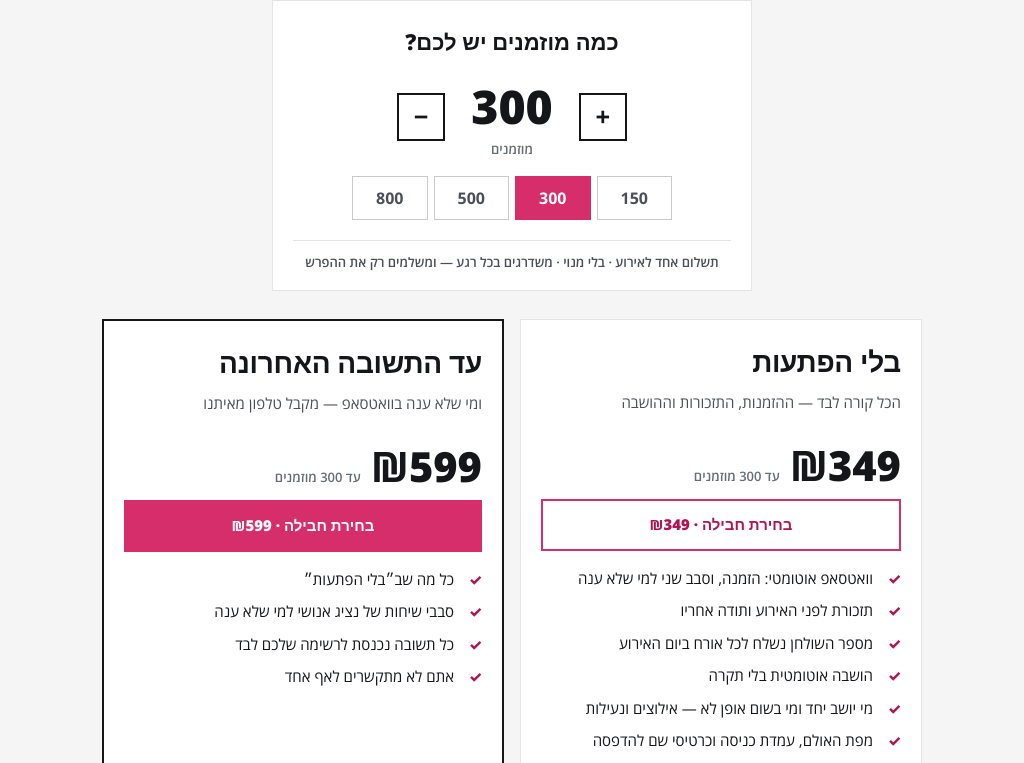
it: PackagePicker › 320 typed is the 350 step — the same price the event card shows
The width and height of the screenshot is (1024, 763).
Replace the text in the number field with "320" at (512, 107), box x1=463 y1=74 x2=561 y2=140
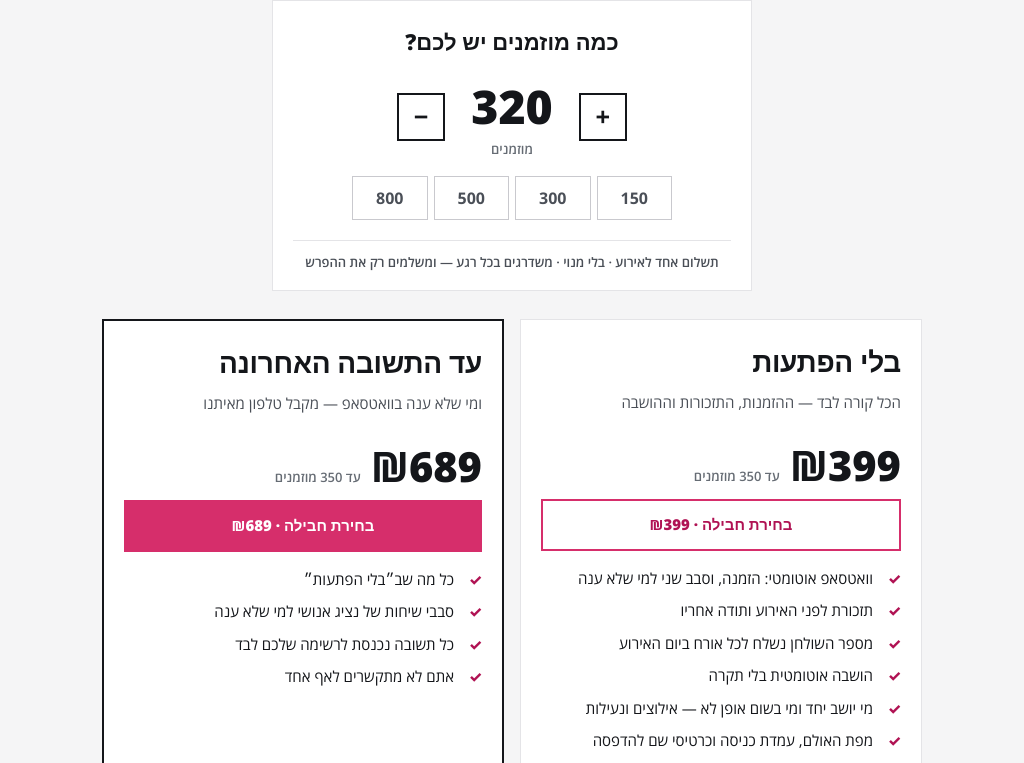
Expected: the text "עד 350 מוזמנים" is shown, x1=694 y1=467 x2=780 y2=486
